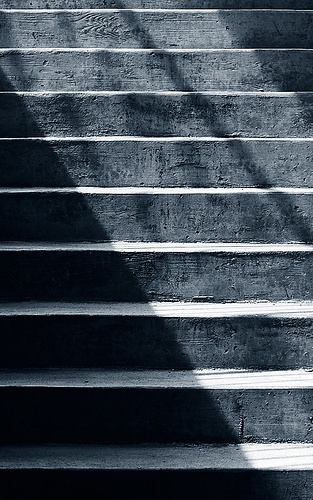stairs_up: (2, 13, 312, 448)
